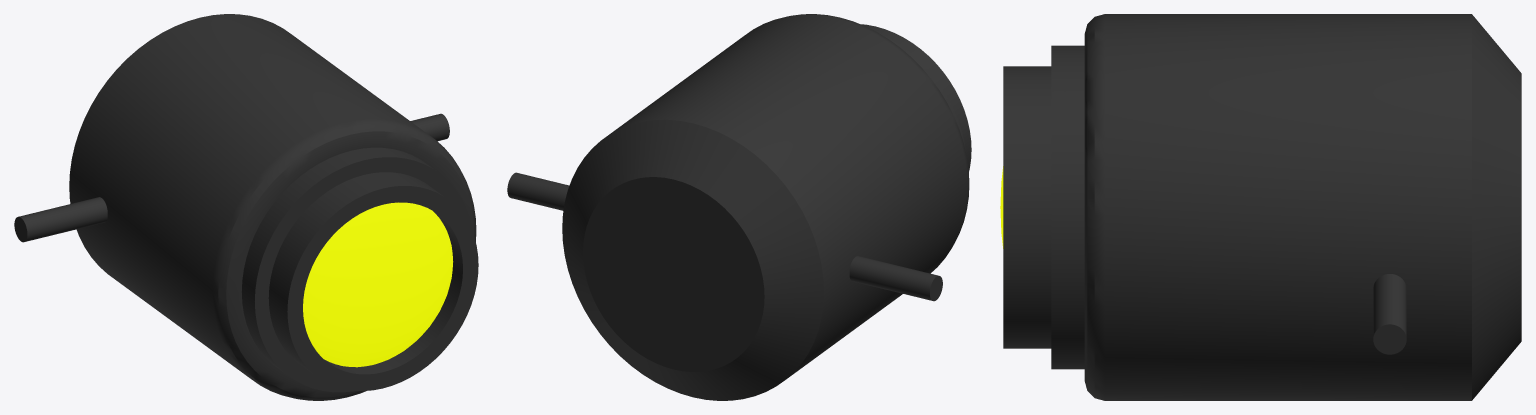
File: spotlight.glb
The picture shows the model from 3 angles, left to right: view 1: azimuth 30°, elevation 25°; view 2: azimuth 150°, elevation 25°; view 3: azimuth 270°, elevation 25°; orthographic projection. The views are drawn at different scales.
Parts seen in each view (by area): view 1: Spotlight, Light Hinge; view 2: Spotlight, Light Hinge; view 3: Spotlight, Light Hinge.
Part boxes in pixels (box(x1,y1,x2,y2)): Spotlight: box(69, 14, 478, 400); Light Hinge: box(14, 113, 449, 242); Spotlight: box(562, 14, 971, 400); Light Hinge: box(507, 172, 942, 301); Spotlight: box(1000, 14, 1521, 400); Light Hinge: box(1373, 274, 1406, 354).
Size of the model in its own units: 3.23 by 2 by 2.69.
